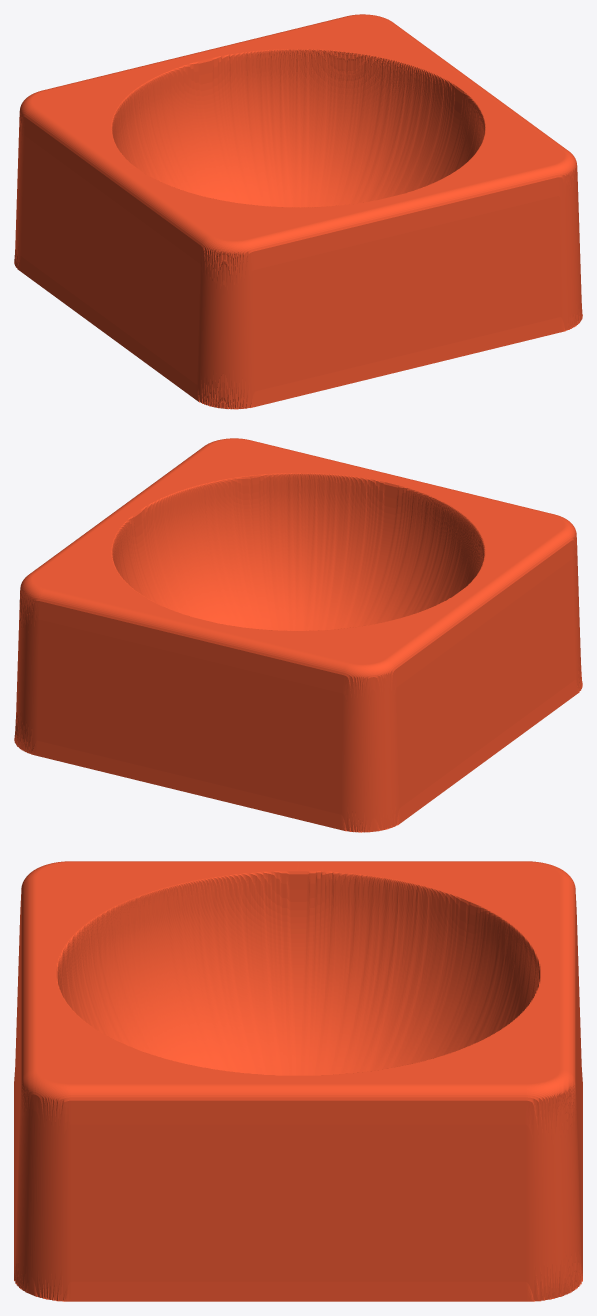
The model's file is mold.glb.
The picture shows the model from 3 angles, top to bottom: view 1: azimuth 30°, elevation 25°; view 2: azimuth 150°, elevation 25°; view 3: azimuth 270°, elevation 25°; orthographic projection. The views are drawn at different scales.
Parts seen in each view (by area): view 1: geometry_0; view 2: geometry_0; view 3: geometry_0.
Part boxes in pixels (box(x1,y1,x2,y2)): geometry_0: box(14, 14, 582, 409); geometry_0: box(14, 438, 582, 832); geometry_0: box(14, 861, 582, 1301).
Bounding box in the file's own units: 0.0904 × 0.0365 × 0.0904.
